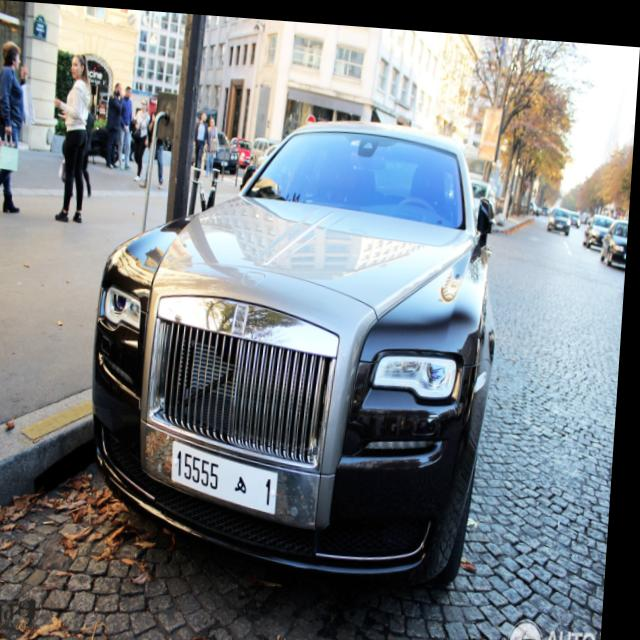License-Plate: (178, 438, 284, 510)
